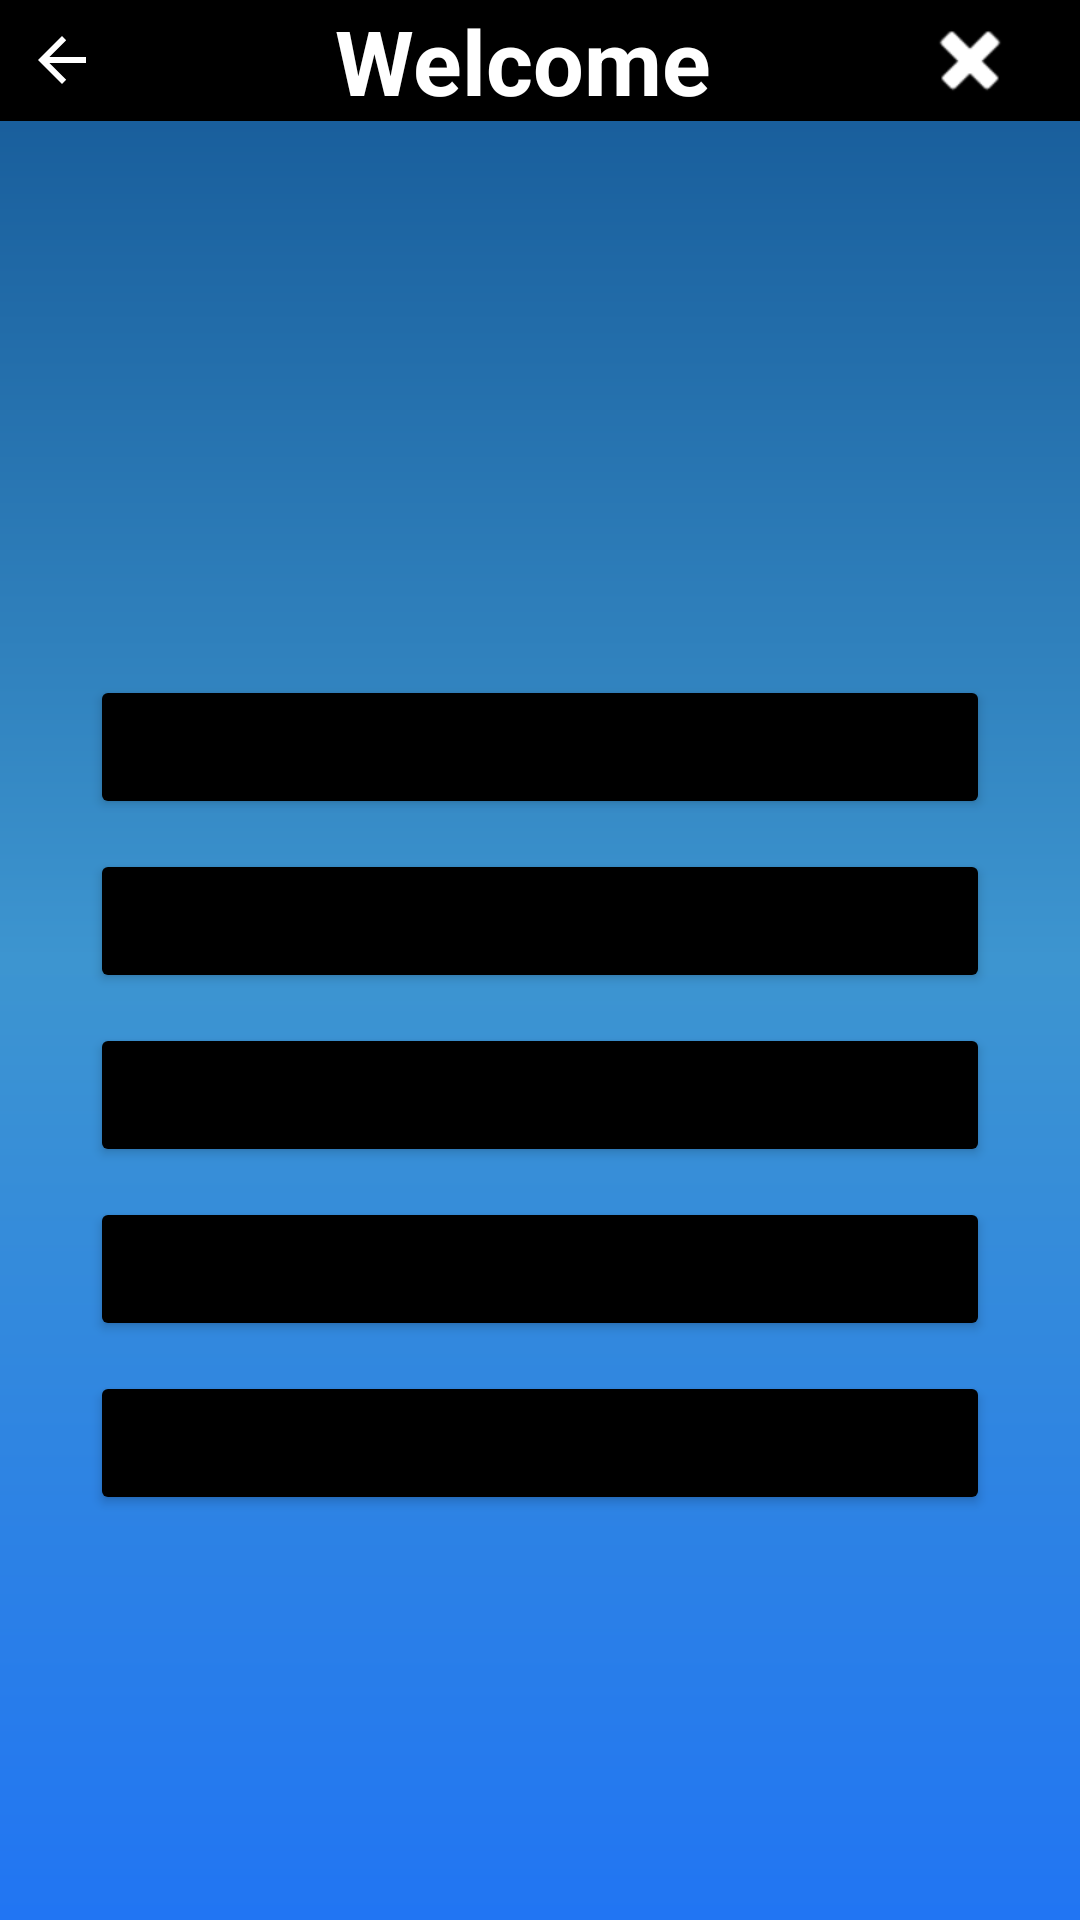

Icon click points for this 1080*1920 phone screenshot, format point (x, y):
delete: point (970, 60)
